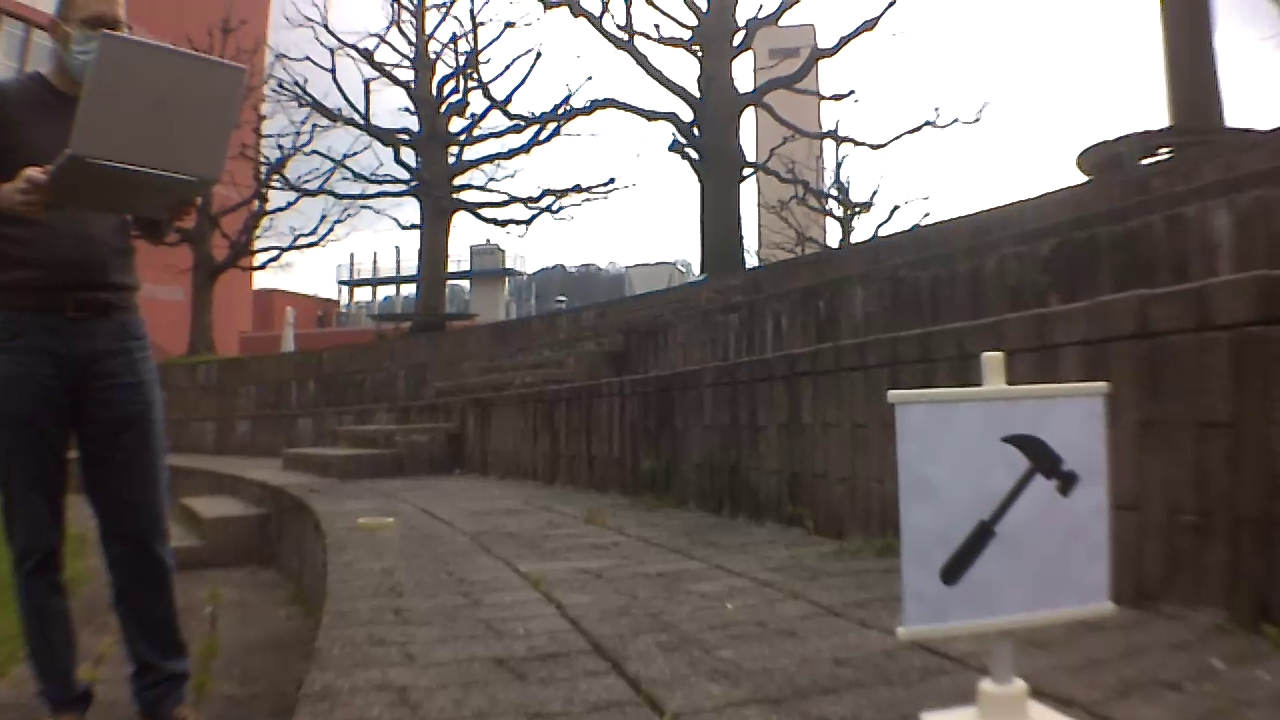hammer: (932, 423, 1089, 590)
